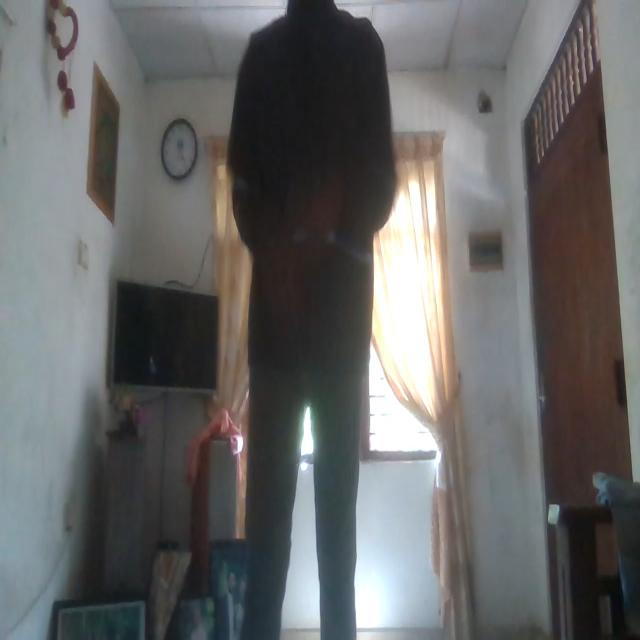Jacket_Wearer: (229, 0, 387, 372)
Person: (232, 0, 382, 638)
